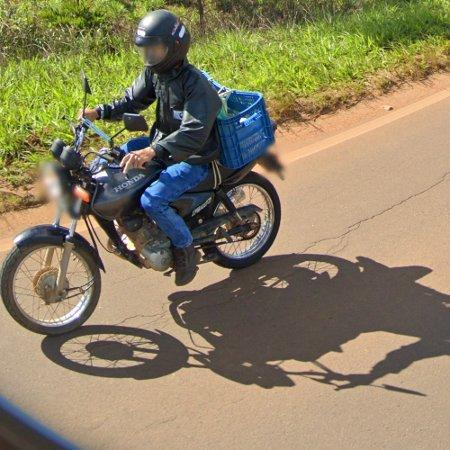motorcycles: (1, 114, 176, 334), (170, 72, 283, 269)
